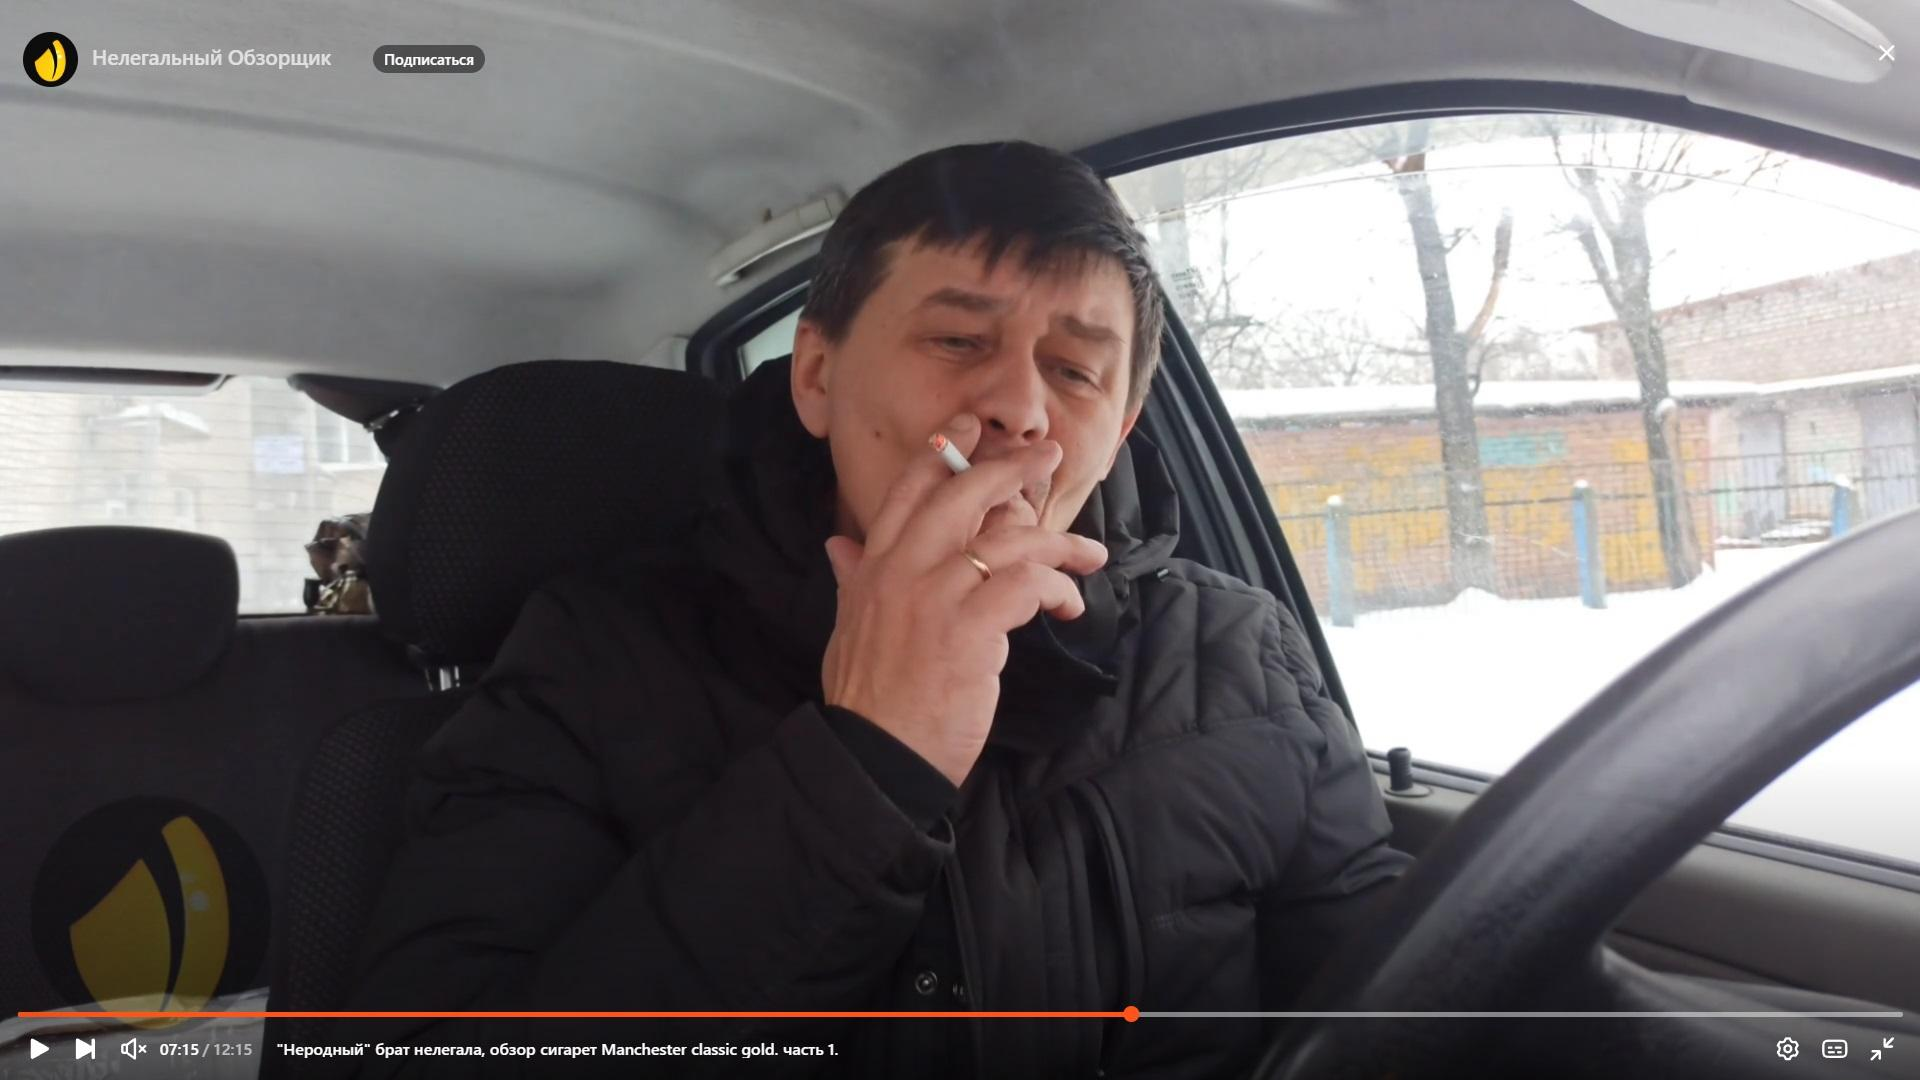cigarette: (930, 431, 972, 472)
